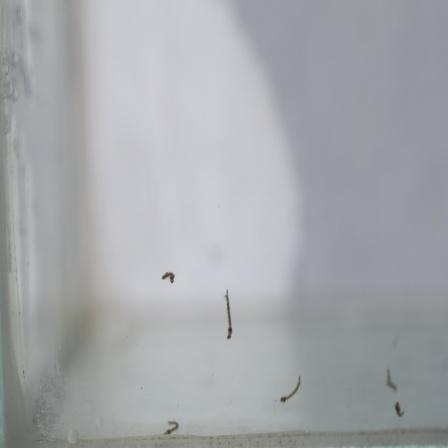Jentik-Nyamuk: (276, 372, 309, 407), (220, 286, 239, 345), (158, 263, 181, 291), (160, 417, 183, 439)
